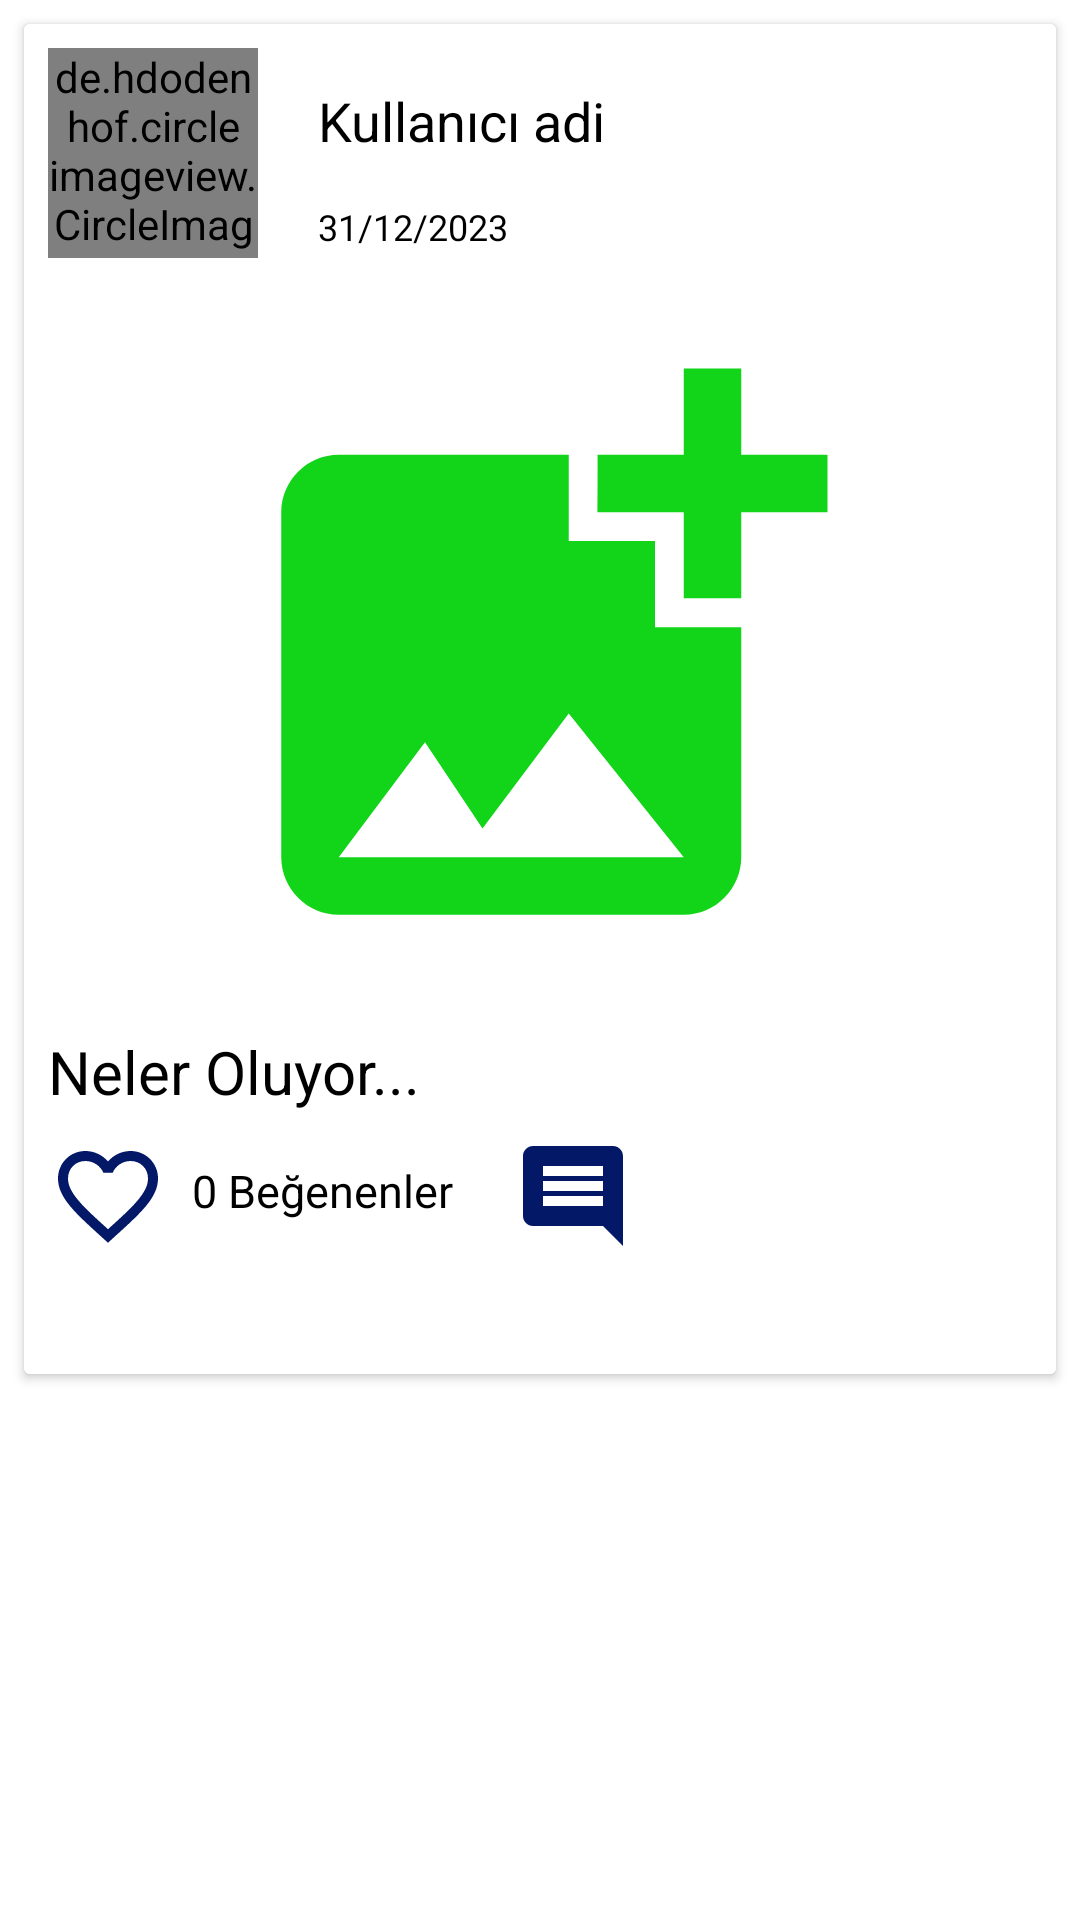

Locate icon controls on the screen. Image size 1080 x 1920, boxes as bbox=(x1, y1, x2, y2).
favorite border: bbox=(58, 1151, 158, 1243)
insert comment: bbox=(523, 1146, 623, 1246)
